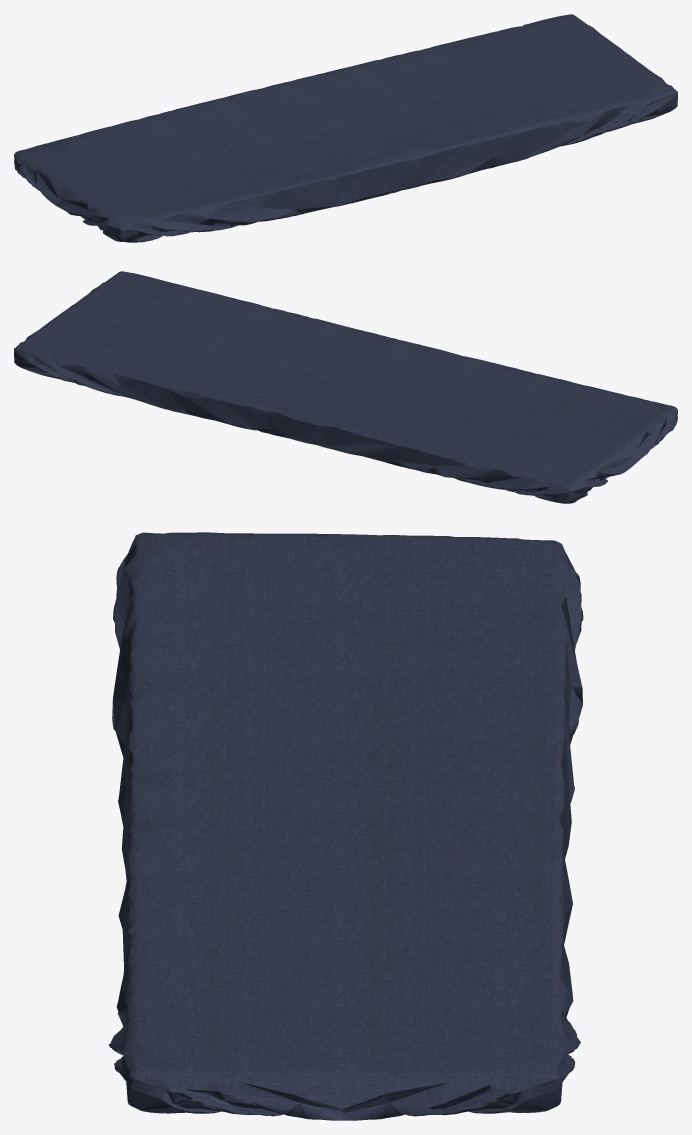
The model's file is Matress_edit1.fbx.
3 renders of one model, top to bottom at view 1: azimuth 30°, elevation 25°; view 2: azimuth 150°, elevation 25°; view 3: azimuth 270°, elevation 25°, orthographic. The views are drawn at different scales.
Parts seen in each view (by area): view 1: Cloth_Shape001; view 2: Cloth_Shape001; view 3: Cloth_Shape001.
Boxes of the visible parts, left/top/right/bottom form: Cloth_Shape001: left=14, top=14, right=677, bottom=242; Cloth_Shape001: left=14, top=271, right=677, bottom=503; Cloth_Shape001: left=108, top=532, right=583, bottom=1120.
Bounding box in the file's own units: 223 × 12.27 × 79.32.
